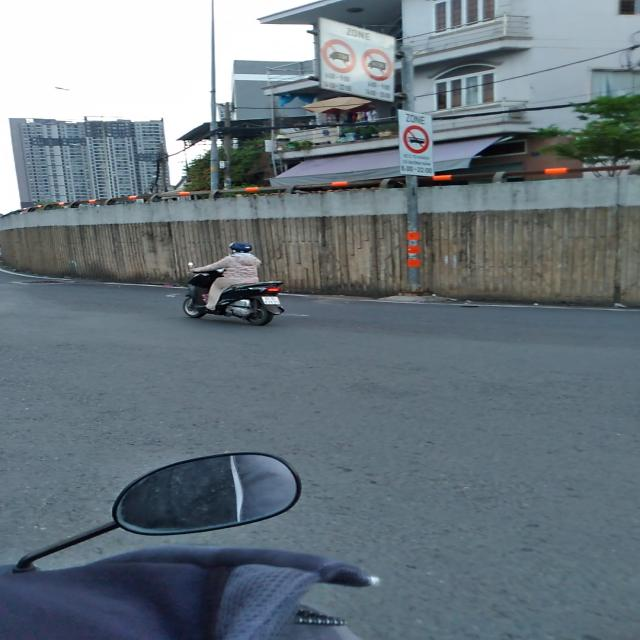Cam con lai: (321, 39, 356, 73), (361, 48, 393, 82), (403, 125, 430, 154)
